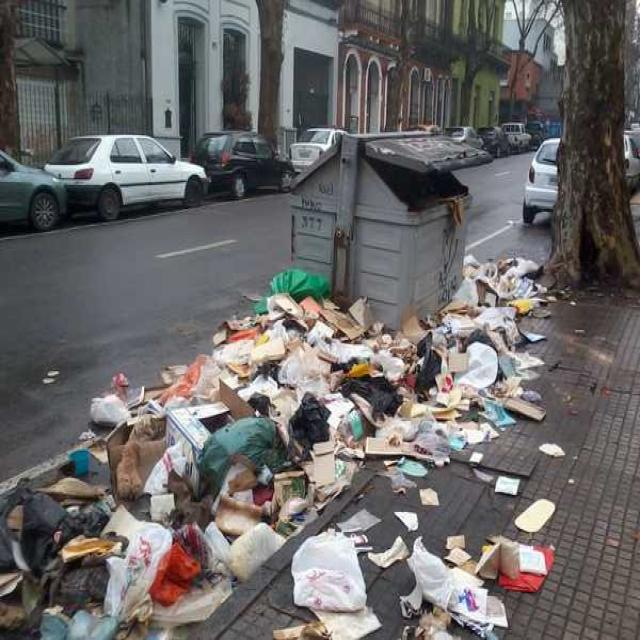garbage: (257, 252, 568, 638), (0, 371, 273, 639), (192, 301, 266, 369), (436, 192, 476, 234)
